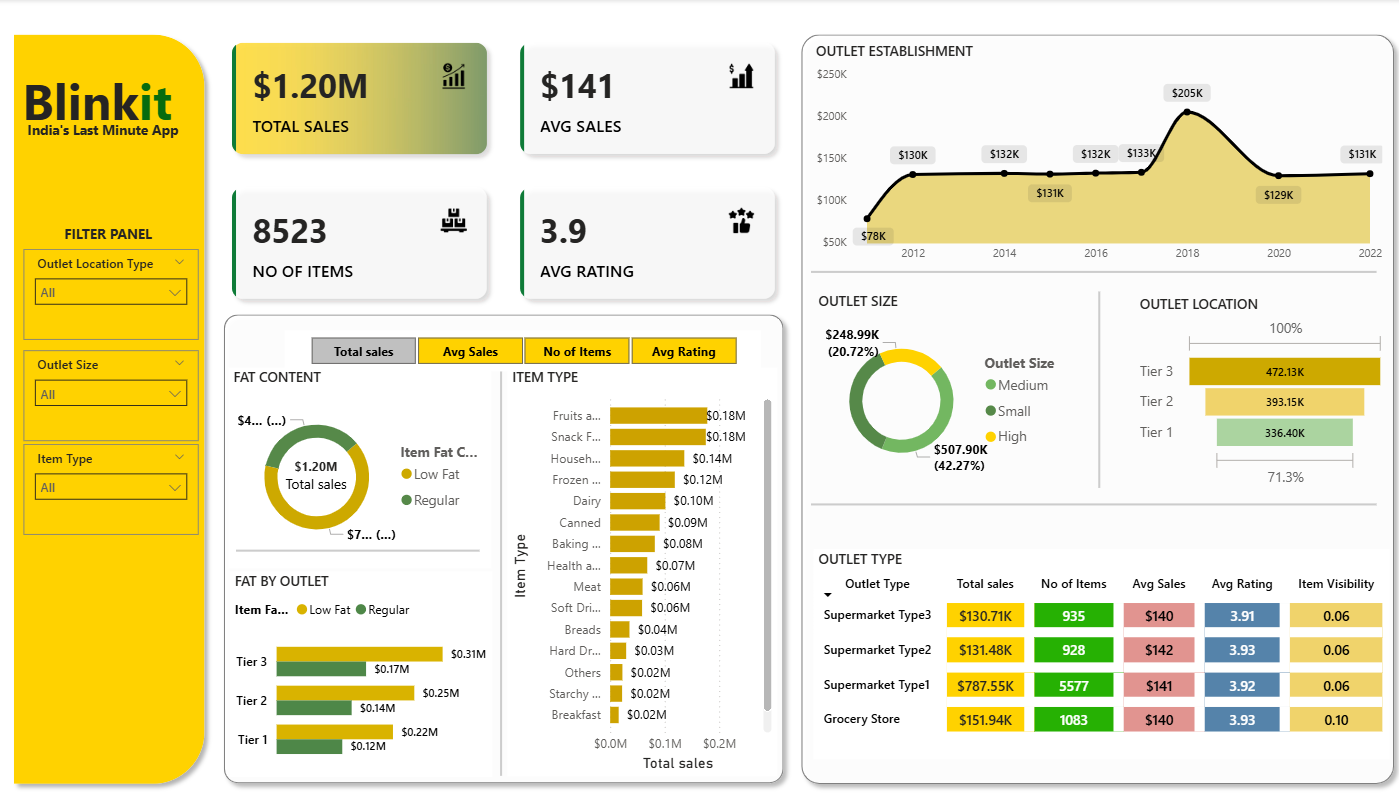

The page's visual inventory and layout, read from the dashboard file:
{"tool":"powerbi","page":{"name":"Page 1","canvas":[1400,800],"ordinal":0},"visuals":[{"type":"shape","box":[33,25.5,204.1,750.4],"z":0},{"type":"textbox","box":[45,61.5,175.6,82.5],"z":1000},{"type":"textbox","box":[49.5,114.1,169.6,30],"z":2000},{"type":"cardVisual","fields":{"Data":["Table1.Total sales","Table1.Avg Sales","Table1.No of Items","Table1.Avg Rating"]},"box":[238.1,25.6,564.9,285.1],"z":3000},{"type":"shape","box":[238.1,299.9,564.9,476.1],"z":4000},{"type":"donutChart","title":"FAT CONTENT","fields":{"Y":["Table1.Total sales"],"Category":["Table1.Item Fat Content"]},"box":[251.5,360.5,256.9,196.4],"z":5000},{"type":"slicer","fields":{"Values":["Metrics.Metrics"]},"box":[306.2,324.2,465.3,40],"z":6000},{"type":"cardVisual","fields":{"Data":["Table1.Total sales"]},"box":[279.8,431.7,115.7,63.2],"z":7000},{"type":"clusteredBarChart","title":"FAT BY OUTLET","fields":{"Y":["Table1.Total sales"],"Category":["Table1.Outlet Location Type"],"Series":["Table1.Item Fat Content"]},"box":[252.9,559.5,256.9,200.4],"z":8000},{"type":"shape","box":[259.6,495,238.1,88.8],"z":9000},{"type":"shape","box":[497.6,364.5,41.7,395.4],"z":10000},{"type":"barChart","title":"ITEM TYPE","fields":{"Y":["Table1.Total sales"],"Category":["Table1.Item Type"]},"box":[524.5,360.5,263.6,399.5],"z":11000},{"type":"shape","box":[803,25.6,597.2,750.5],"z":12000},{"type":"lineChart","title":"OUTLET ESTABLISHMENT","fields":{"Category":["Table1.Outlet Establishment Year"],"Y":["Table1.Total sales"]},"box":[820.4,41.7,563.6,224.6],"z":13000},{"type":"donutChart","title":"OUTLET SIZE","fields":{"Y":["Table1.Total sales"],"Category":["Table1.Outlet Size"]},"box":[823.7,285.9,258.2,196.4],"z":14000},{"type":"shape","box":[1081.4,286.5,43,192.3],"z":15000},{"type":"shape","box":[820.4,221.9,552.8,88.8],"z":16000},{"type":"funnel","title":"OUTLET LOCATION","fields":{"Y":["Sum(Table1.Sales)"],"Category":["Table1.Outlet Location Type"]},"box":[1137.1,288.6,250.2,193.7],"z":17000},{"type":"shape","box":[820.4,449.2,552.8,88.8],"z":18000},{"type":"pivotTable","title":"OUTLET TYPE","fields":{"Rows":["Table1.Outlet Type"],"Values":["Table1.Total sales","Table1.No of Items","Table1.Avg Sales","Table1.Avg Rating","Avg(Table1.Item Visibility)"]},"box":[823.1,538,563.6,205.8],"z":19000},{"type":"slicer","fields":{"Values":["Table1.Outlet Location Type"]},"box":[51.1,244.8,170.8,88.8],"z":20000},{"type":"slicer","fields":{"Values":["Table1.Outlet Size"]},"box":[51.1,343,170.8,88.8],"z":21000},{"type":"slicer","fields":{"Values":["Table1.Item Type"]},"box":[51.1,434.4,170.8,88.8],"z":22000},{"type":"textbox","box":[64.6,215.2,138.5,29.6],"z":23000}]}

Visuals, with their boxes in screenshot pixels (x1, y1, x2, y2), scaled from the page's 1400x800 canvas onto the 1399x803 screenshot:
shape: [left=33, top=26, right=237, bottom=779]
textbox: [left=45, top=62, right=220, bottom=145]
textbox: [left=49, top=115, right=219, bottom=145]
cardVisual - Table1.Total sales x Table1.Avg Sales: [left=238, top=26, right=802, bottom=312]
shape: [left=238, top=301, right=802, bottom=779]
"FAT CONTENT" donutChart: [left=251, top=362, right=508, bottom=559]
slicer - Metrics.Metrics: [left=306, top=325, right=771, bottom=366]
cardVisual - Table1.Total sales: [left=280, top=433, right=395, bottom=497]
"FAT BY OUTLET" clusteredBarChart: [left=253, top=562, right=509, bottom=763]
shape: [left=259, top=497, right=497, bottom=586]
shape: [left=497, top=366, right=539, bottom=763]
"ITEM TYPE" barChart: [left=524, top=362, right=788, bottom=763]
shape: [left=802, top=26, right=1398, bottom=779]
"OUTLET ESTABLISHMENT" lineChart: [left=820, top=42, right=1383, bottom=267]
"OUTLET SIZE" donutChart: [left=823, top=287, right=1081, bottom=484]
shape: [left=1081, top=288, right=1124, bottom=481]
shape: [left=820, top=223, right=1372, bottom=312]
"OUTLET LOCATION" funnel: [left=1136, top=290, right=1386, bottom=484]
shape: [left=820, top=451, right=1372, bottom=540]
"OUTLET TYPE" pivotTable: [left=823, top=540, right=1386, bottom=747]
slicer - Table1.Outlet Location Type: [left=51, top=246, right=222, bottom=335]
slicer - Table1.Outlet Size: [left=51, top=344, right=222, bottom=433]
slicer - Table1.Item Type: [left=51, top=436, right=222, bottom=525]
textbox: [left=65, top=216, right=203, bottom=246]
